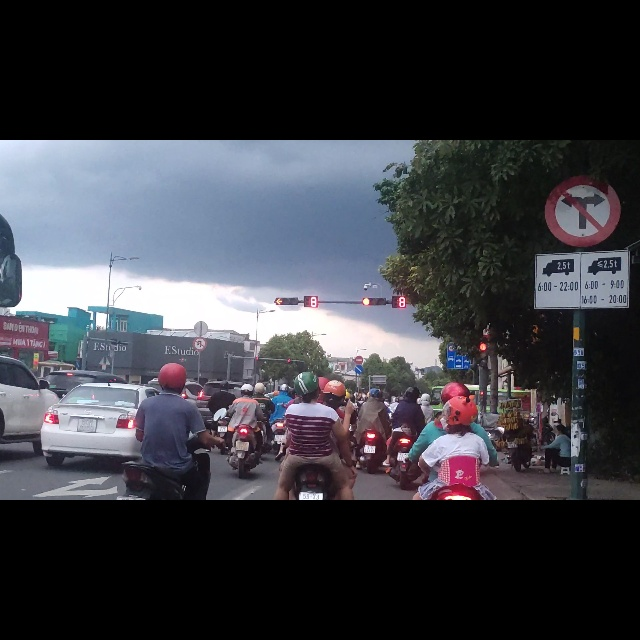bien_cam: (544, 63, 621, 192), (534, 198, 630, 298), (192, 348, 207, 375), (354, 383, 363, 399), (354, 400, 363, 416)
